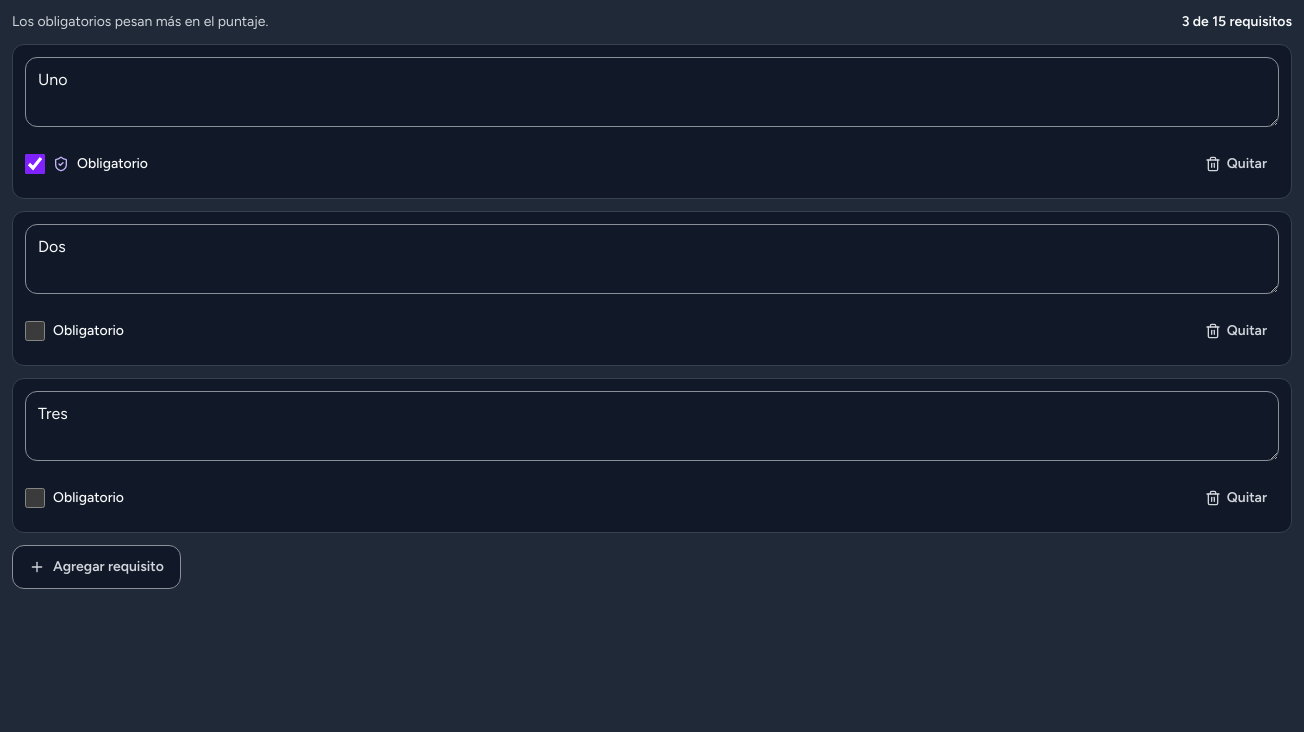
Test case: CVRequirementCards › el contenedor role="status" existe siempre (vacío) y el texto entra después
The width and height of the screenshot is (1304, 732).
Click the button with aria-label "Quitar requisito 2". click: [1236, 331]
box: x1=1193 y1=309 x2=1279 y2=353
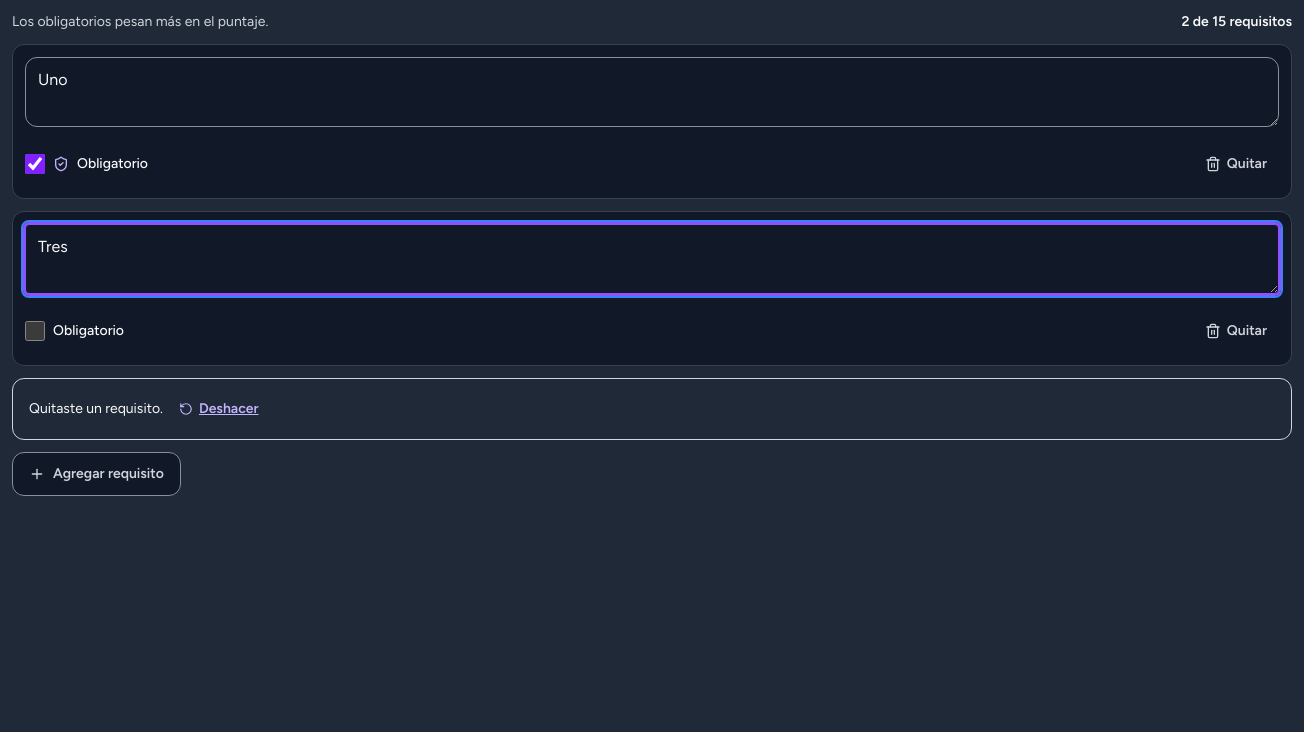
Check: the message reads "Quitaste un requisito.", box x1=29 y1=400 x2=163 y2=417
